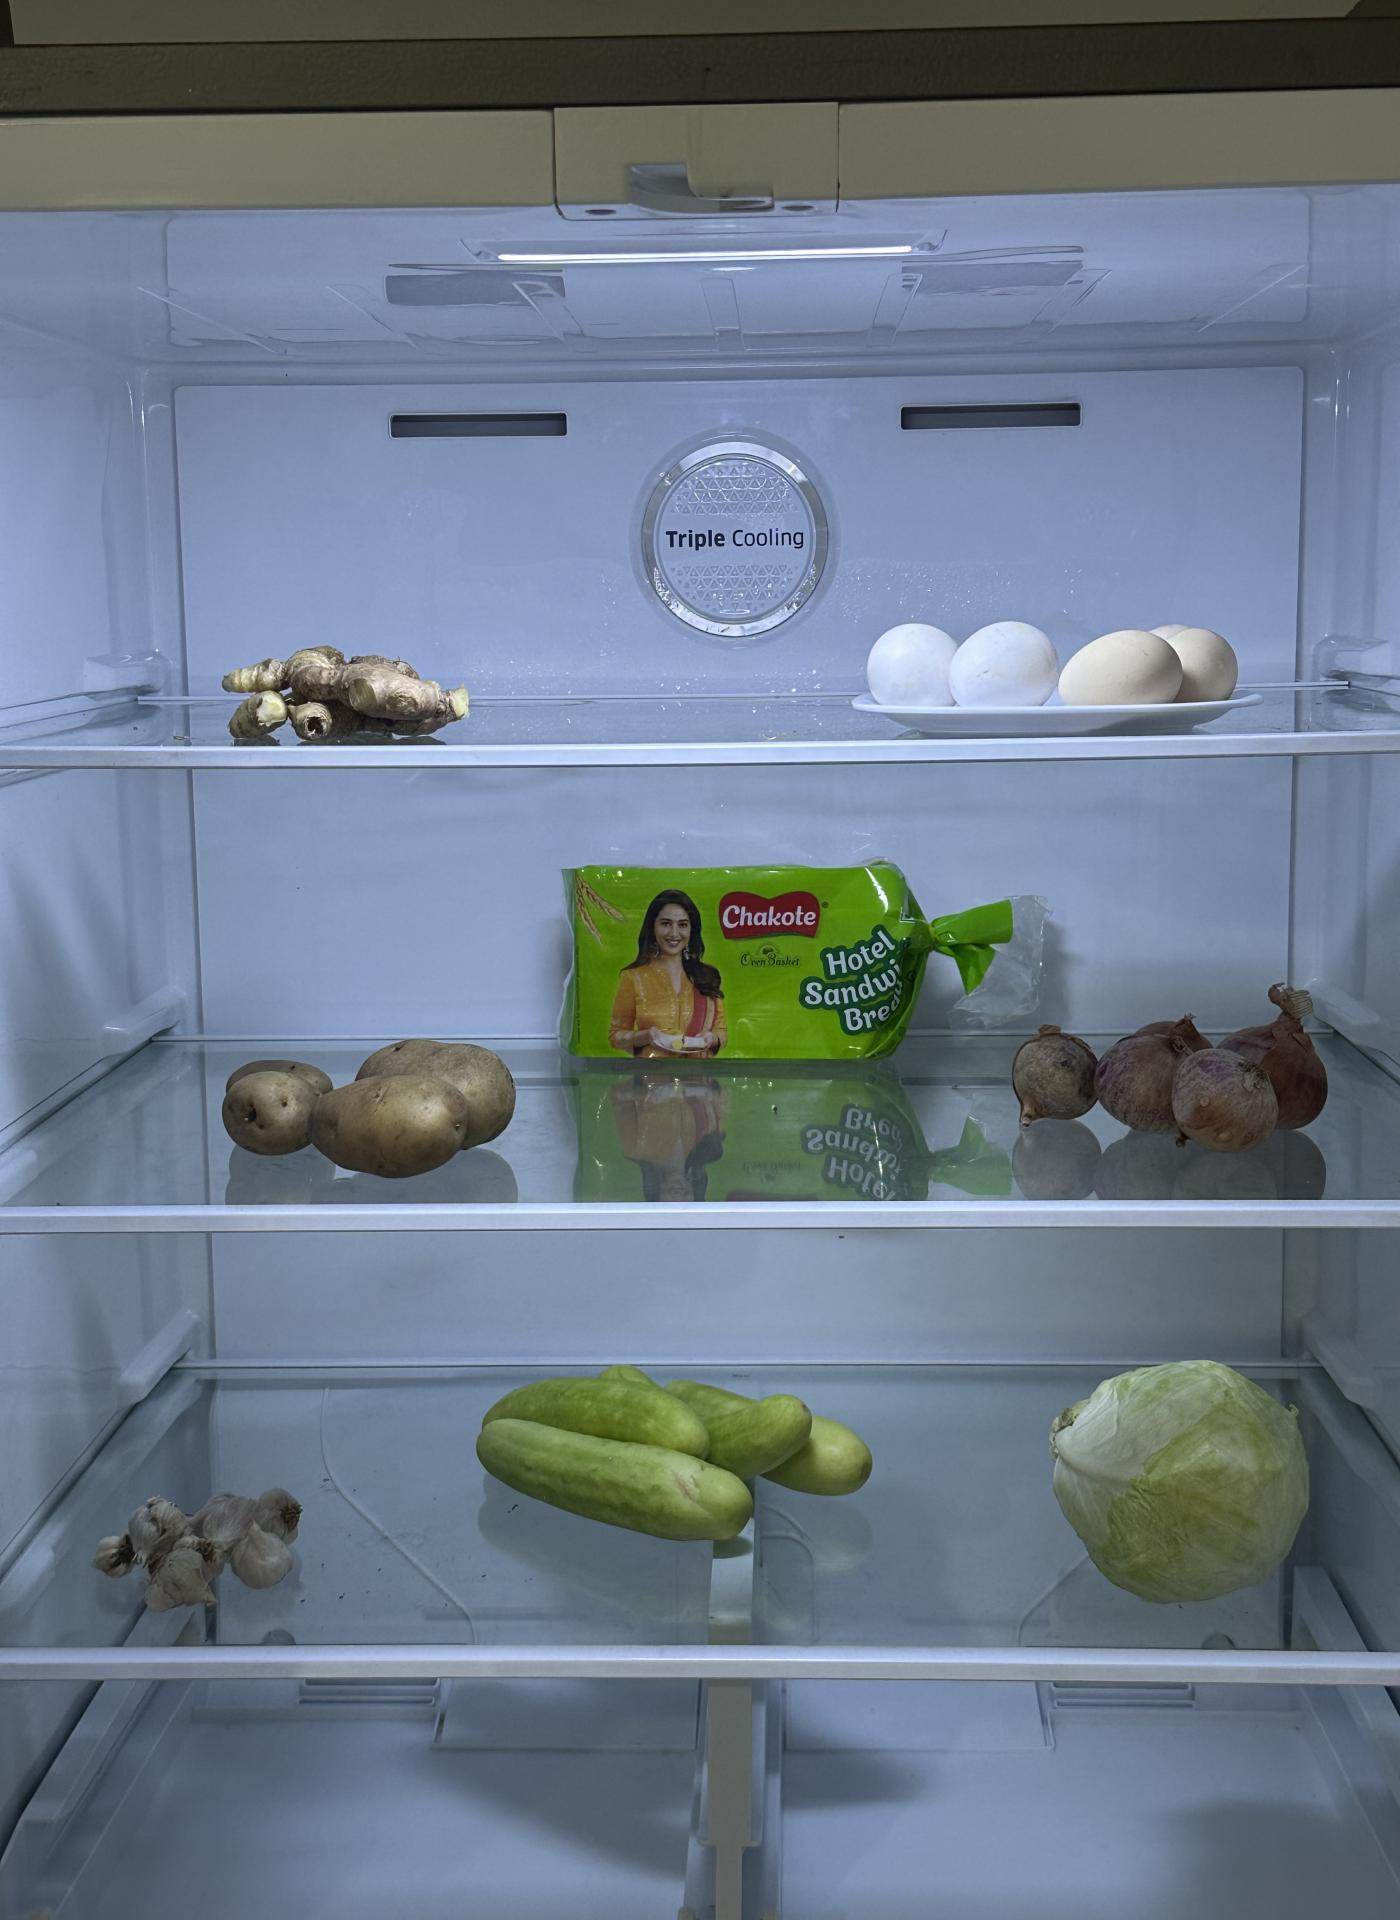bread: (556, 856, 938, 1081)
cabbage: (1054, 1364, 1319, 1611)
cucumber: (471, 1352, 872, 1540)
egg: (862, 596, 1254, 735)
garlic: (95, 1473, 310, 1613)
ginger: (218, 641, 473, 751)
onion: (996, 973, 1334, 1166)
potato: (224, 1033, 526, 1175)
